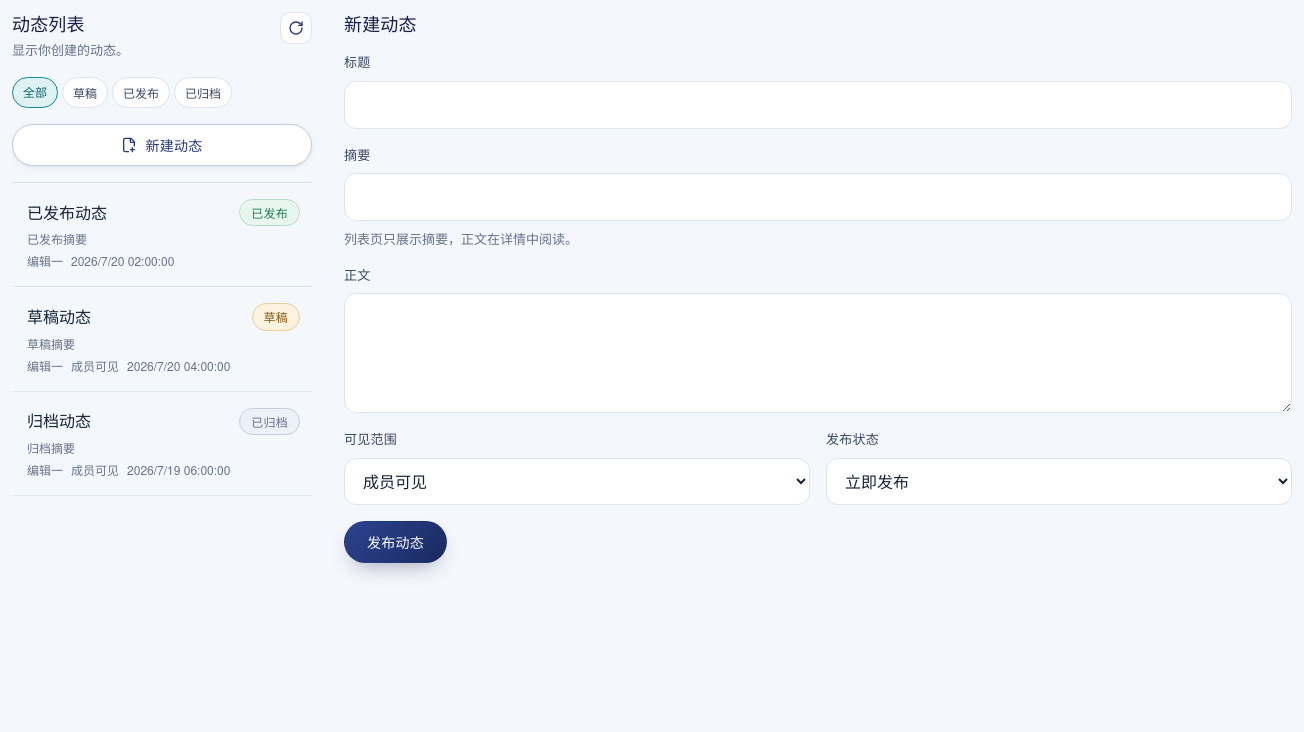
Test: AdminNews manage workspace › opens an archived record in the read-only panel with restore and delete only
This screenshot has width=1304, height=732.
Click the button with class "record-item" that starts with "归档动态": (59, 421) 12,392 -> 312,496
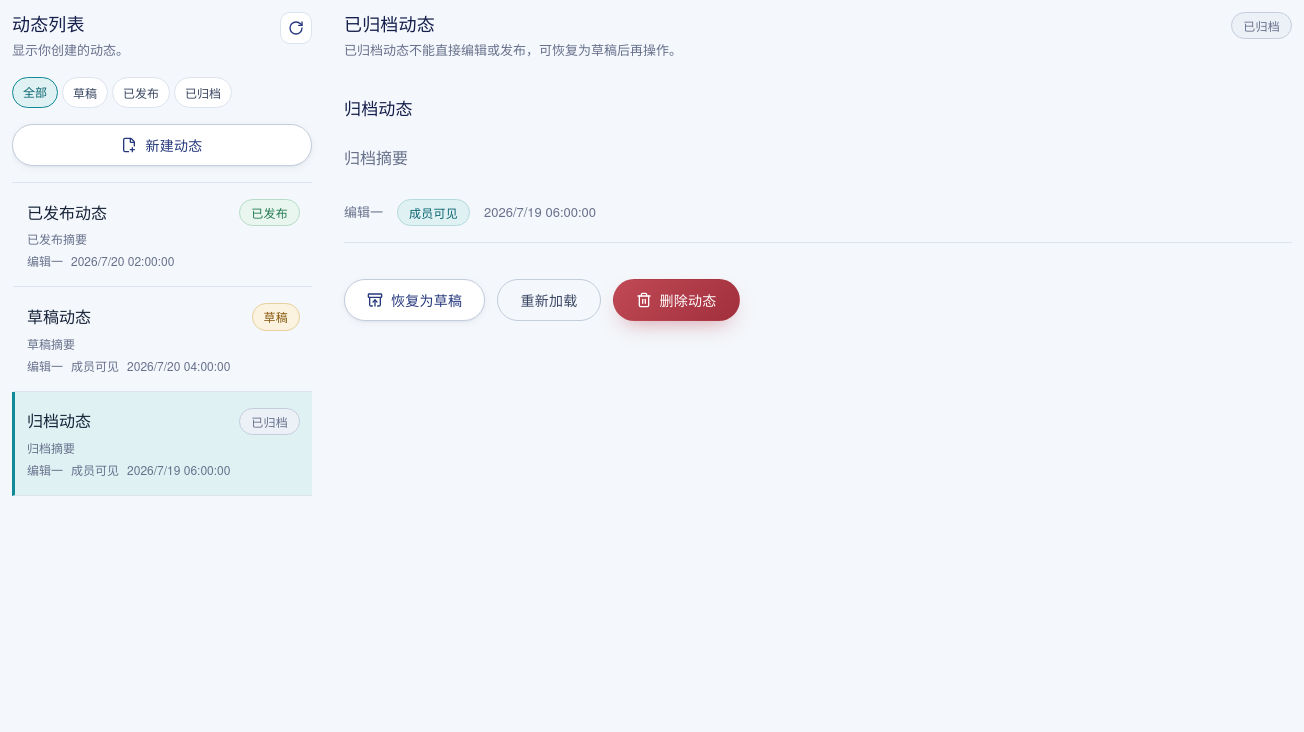
Check: the text "已归档动态不能直接编辑或发布" is shown, box 344,40 -> 682,59
